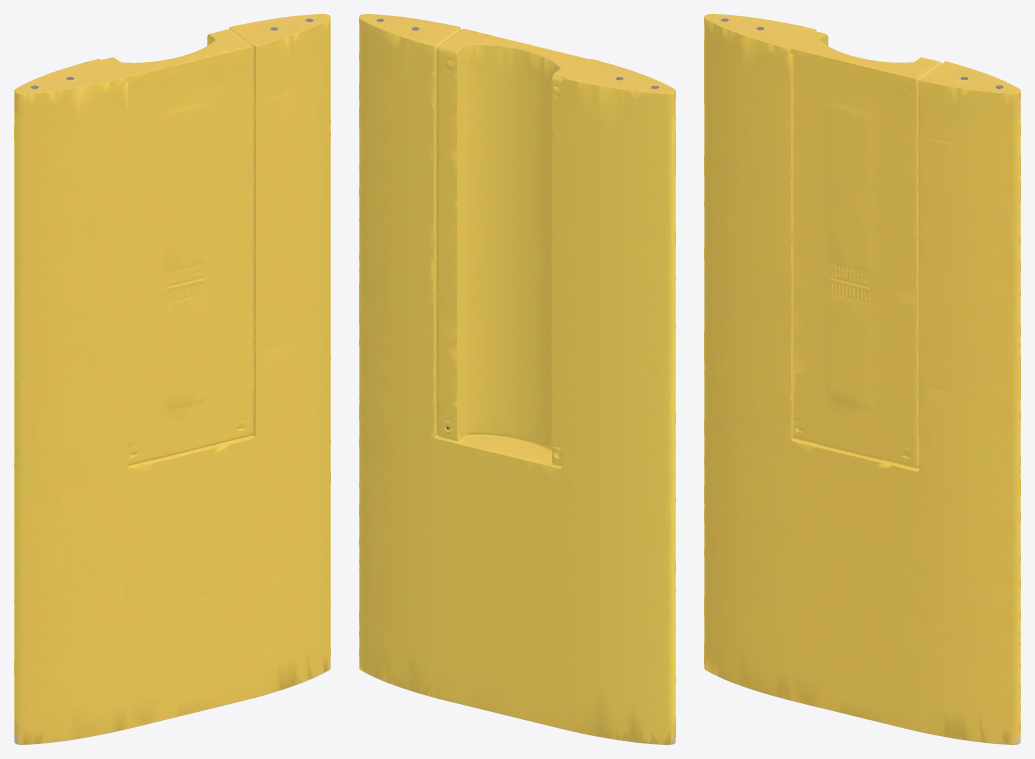
The model's file is part_tail.min.glb.
The picture shows the model from 3 angles, left to right: view 1: azimuth 30°, elevation 25°; view 2: azimuth 150°, elevation 25°; view 3: azimuth 330°, elevation 25°; orthographic projection.
Size of the model in its own units: 0.9604 by 1.9 by 0.1473.
Materials: 1 (1 with a texture image).
